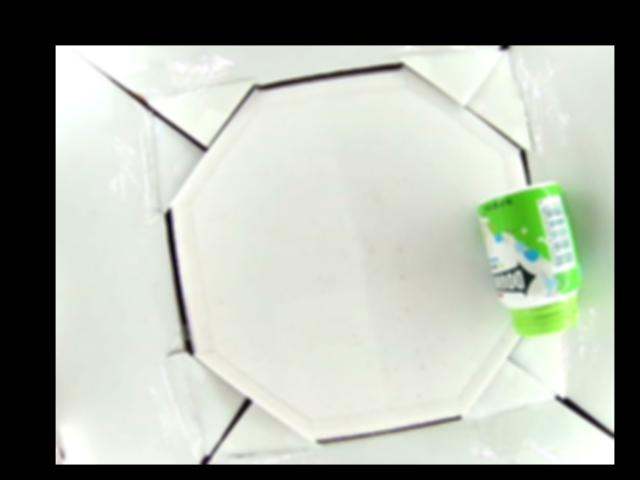Bottle: (475, 180, 583, 343)
